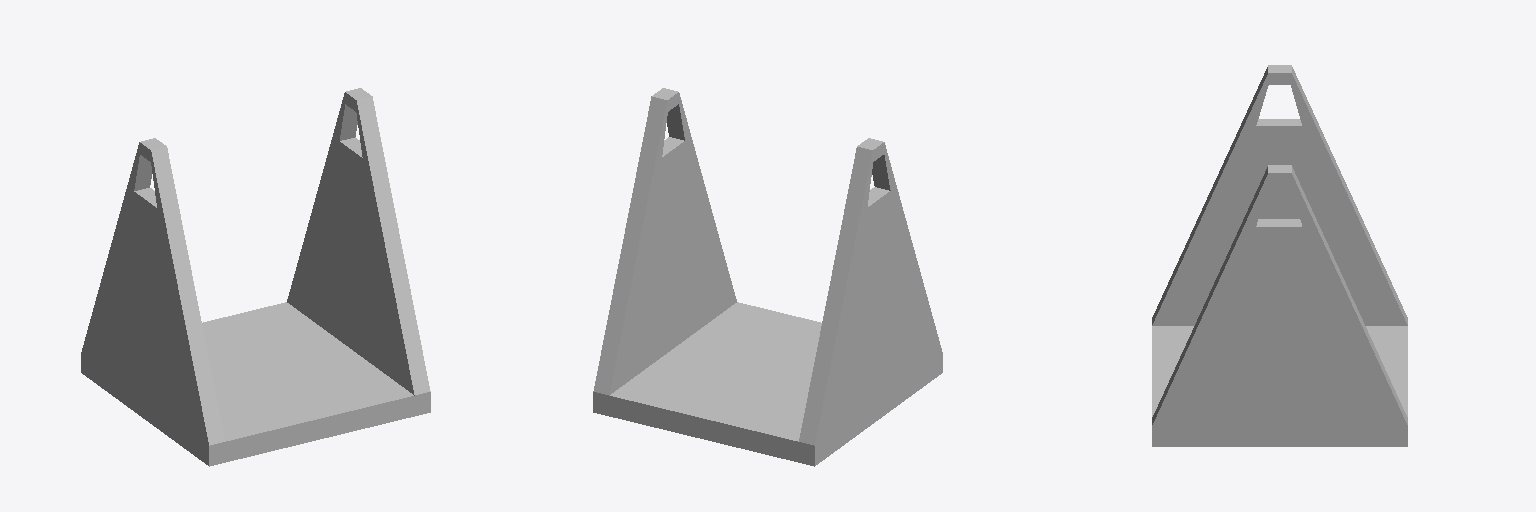
The picture shows the model from 3 angles: view 1: azimuth 30°, elevation 25°; view 2: azimuth 150°, elevation 25°; view 3: azimuth 270°, elevation 25°; orthographic projection.
Parts seen in each view (by area): view 1: Base_Cube; view 2: Base_Cube; view 3: Base_Cube.
Boxes of the visible parts, <box> form: Base_Cube: <box>81,88,430,466</box>; Base_Cube: <box>593,88,942,466</box>; Base_Cube: <box>1152,65,1407,446</box>.
Bounding box in the file's own units: 2 × 2.36 × 2.